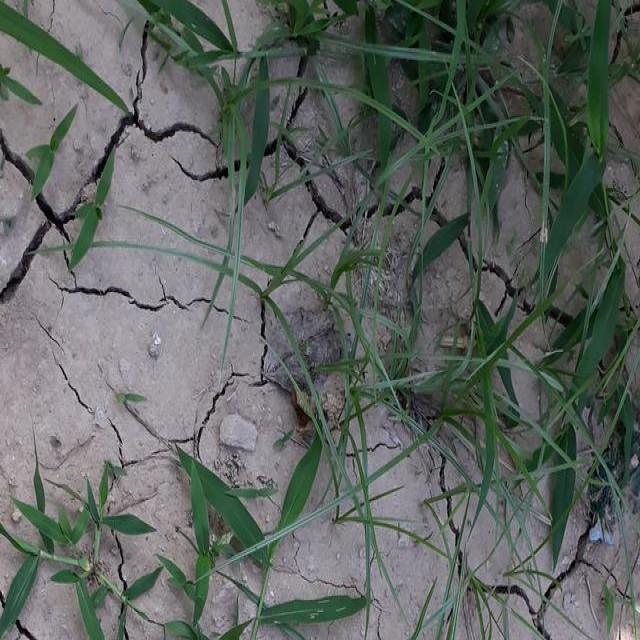weed: (339, 3, 640, 233), (416, 256, 640, 552), (124, 0, 304, 220)
